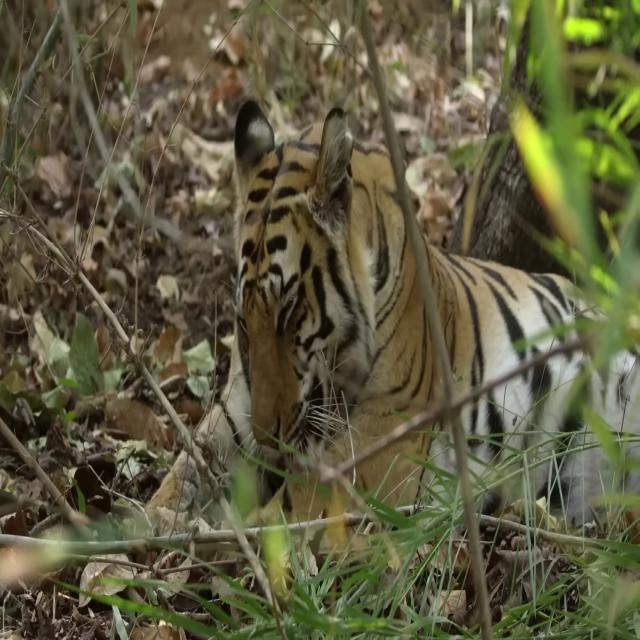tiger: (148, 98, 640, 578)
